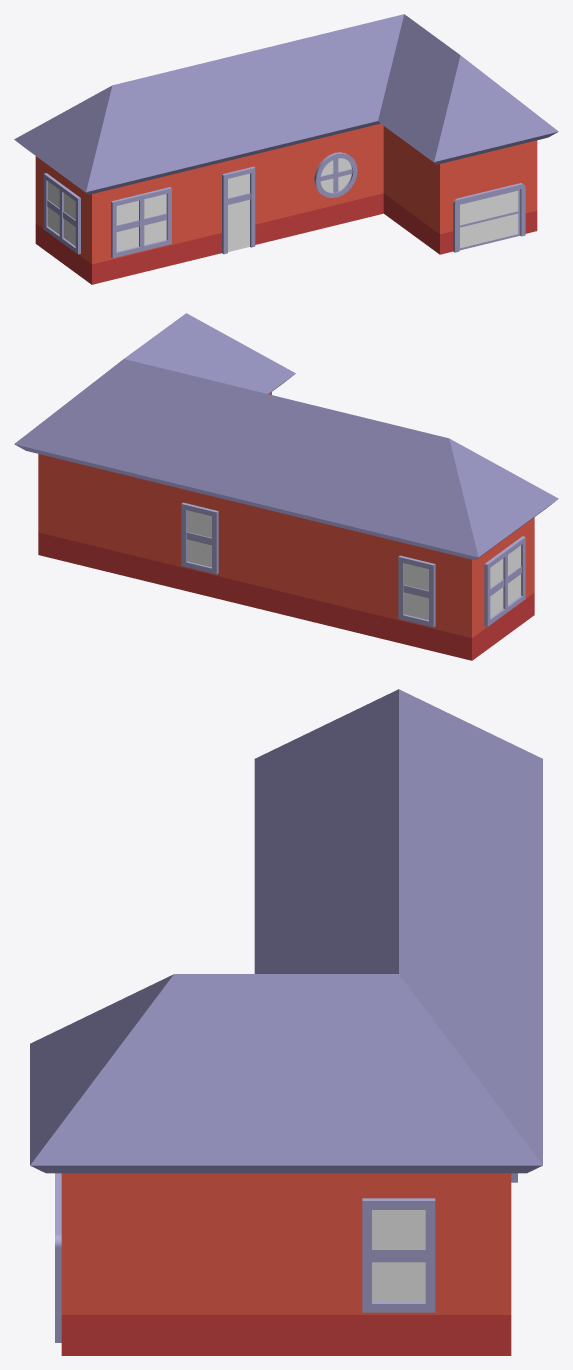
The model's file is house3.fbx.
3 renders of one model, top to bottom at view 1: azimuth 30°, elevation 25°; view 2: azimuth 150°, elevation 25°; view 3: azimuth 270°, elevation 25°, orthographic. The views are drawn at different scales.
Visible parts, largest first — view 1: mergedBlocks; view 2: mergedBlocks; view 3: mergedBlocks.
Part boxes in pixels (bbox=[...]): mergedBlocks: bbox=[14, 14, 558, 284]; mergedBlocks: bbox=[14, 313, 558, 660]; mergedBlocks: bbox=[30, 689, 542, 1355].
Size of the model in its own units: 42.83 by 16.41 by 22.83.
